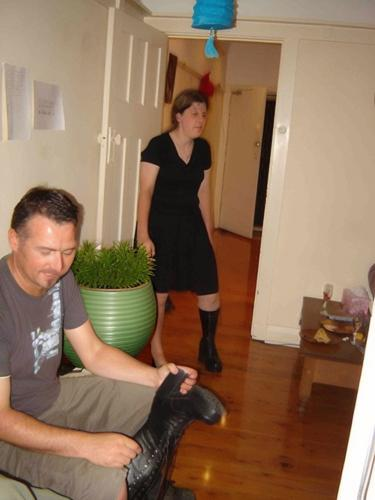person: (1, 183, 203, 500), (122, 86, 227, 376)
person/foot: (198, 342, 224, 375), (153, 352, 169, 369)
person/hand: (88, 428, 145, 470), (156, 359, 199, 402), (133, 234, 155, 262)
person/head: (8, 186, 83, 292), (172, 91, 211, 144)
pottedplant: (60, 238, 158, 367)
